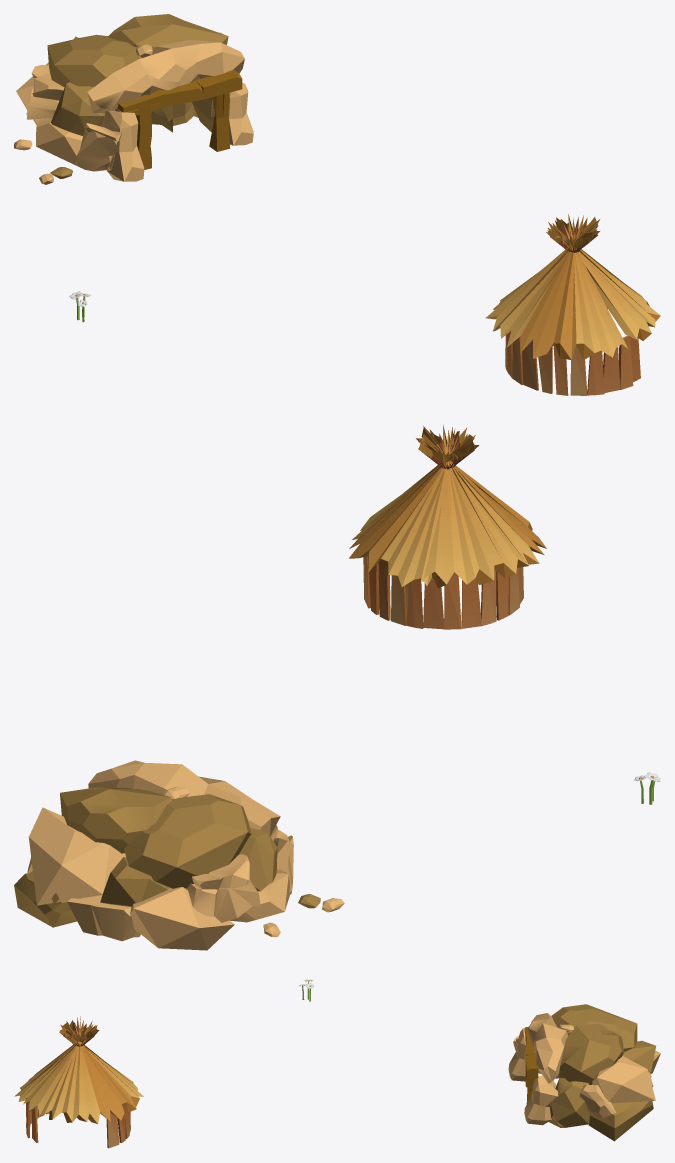
3 views of the same model, one above another, from view 1: azimuth 30°, elevation 25°; view 2: azimuth 150°, elevation 25°; view 3: azimuth 270°, elevation 25° (orthographic). The views are drawn at different scales.
Visible parts, largest first — view 1: node_M_Cave_29338, node_Manmade09_1_29370; view 2: node_M_Cave_29338, node_Manmade09_1_29370; view 3: node_M_Cave_29338, node_Manmade09_1_29370.
Part boxes in pixels (box(x1,y1,x2,y2)): node_M_Cave_29338: box(14, 14, 253, 184); node_Manmade09_1_29370: box(485, 214, 660, 395); node_M_Cave_29338: box(14, 760, 344, 950); node_Manmade09_1_29370: box(349, 424, 546, 629); node_M_Cave_29338: box(508, 1004, 660, 1141); node_Manmade09_1_29370: box(14, 1016, 143, 1148).
Size of what is drawn, in the model's own units: 12.72 by 4.58 by 23.41.
5 materials, 2 textured.
